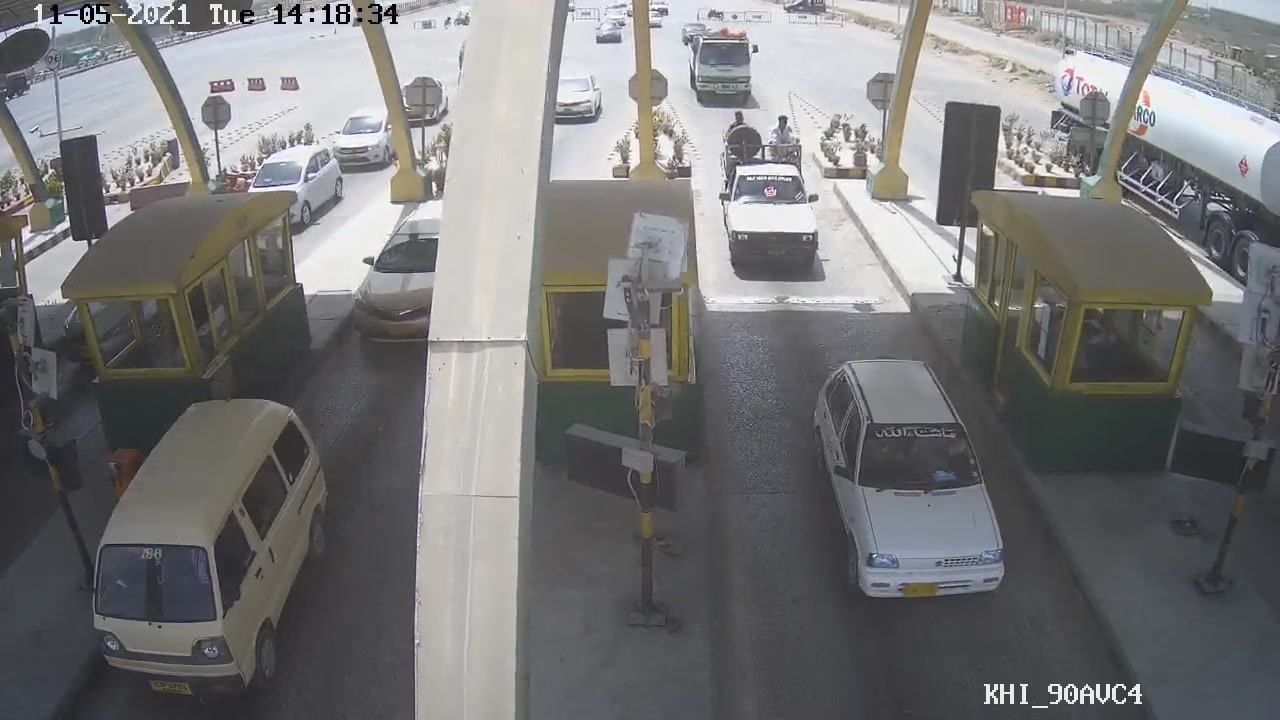F1: (806, 350, 1010, 603)
